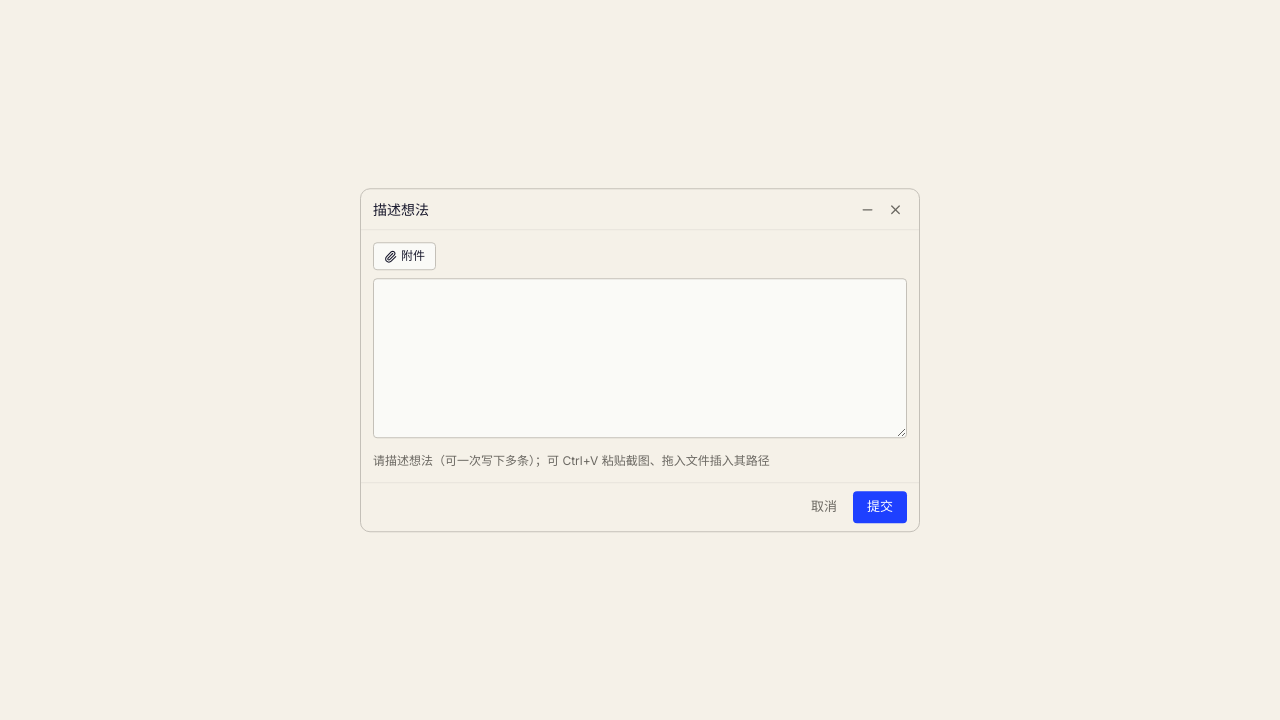
Test case: 处理态与重弹（状态由「待办」列按钮承载，此处不再渲染底栏指示） › 提交 → 处理态隐藏描述窗（无独立底栏「建卡中」）→ 完成弹审阅窗
Step 1. Type "一大段想法" into the text box named "描述内容" → (640, 358), box [373,278,907,438]
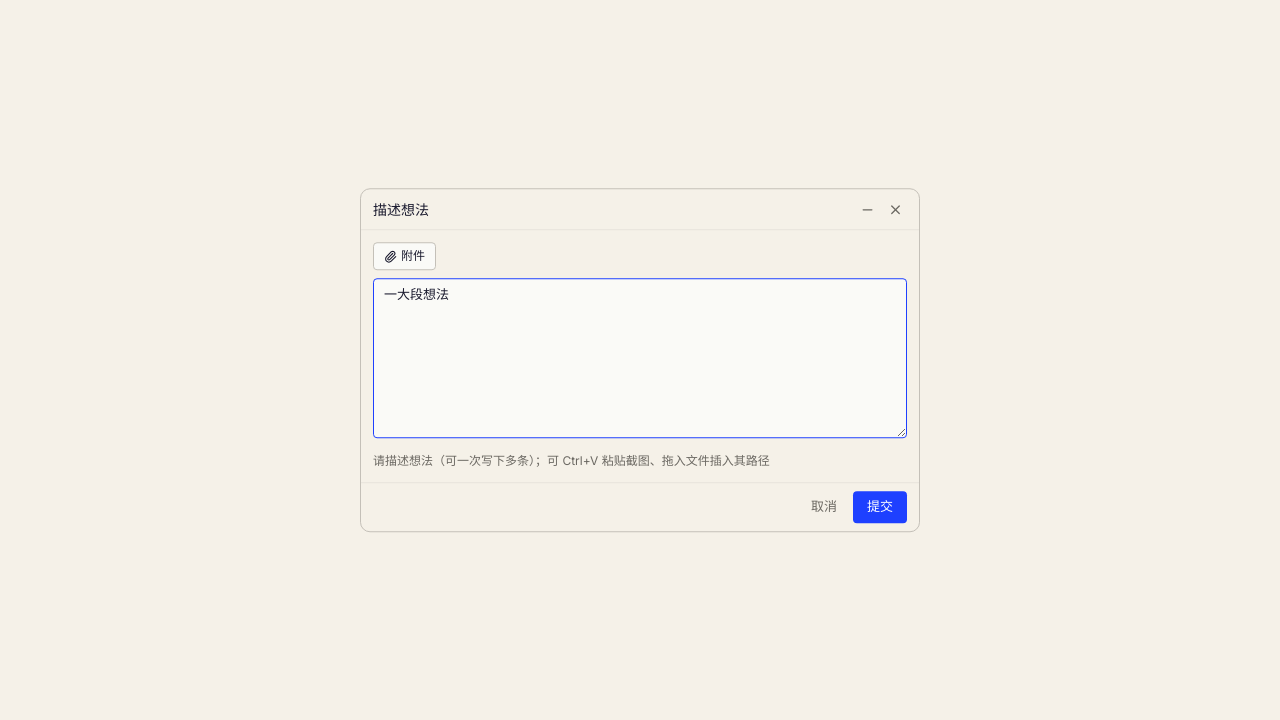
Step 2. Click the button "提交" → (880, 507), box [853,491,907,523]
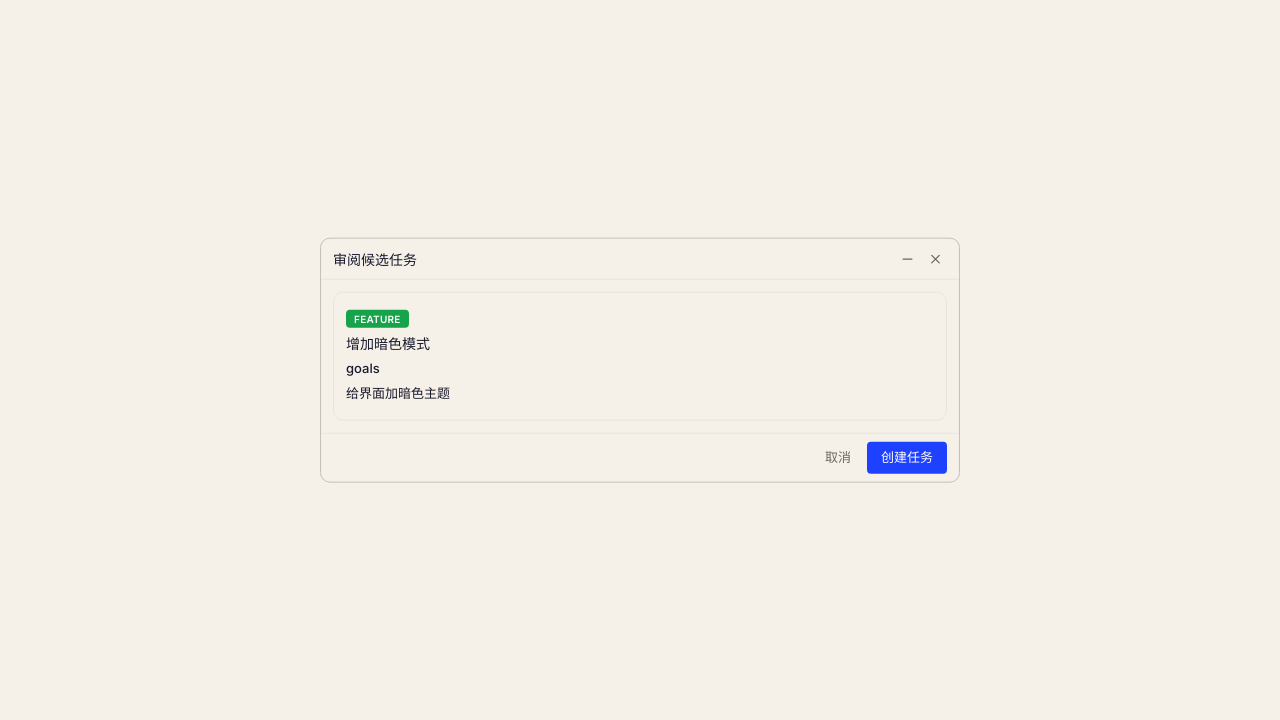
Check: the text "描述想法" is gone
Check: the dialog "审阅候选任务" is shown, box [320,238,960,482]
